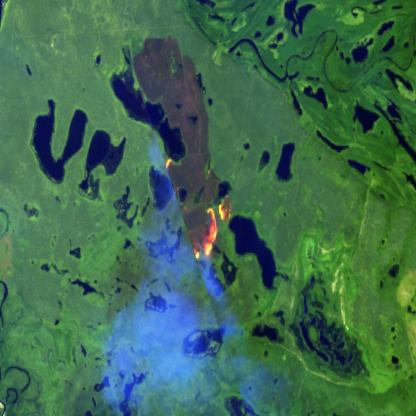fire: (163, 155, 234, 262)
